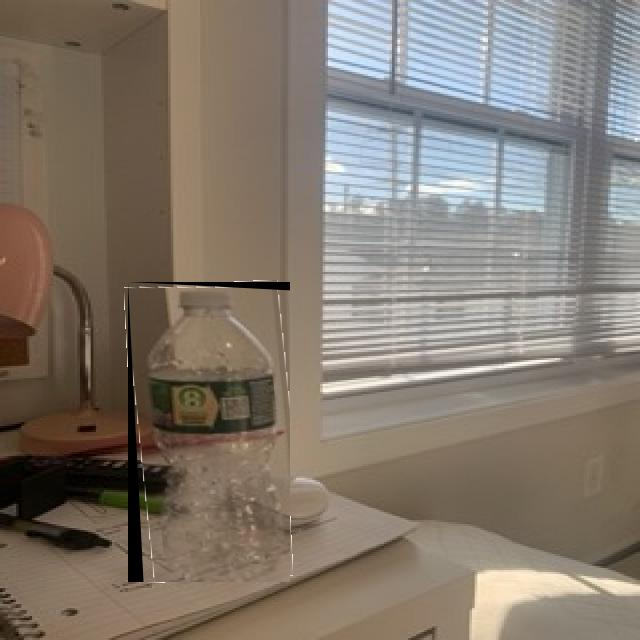water_bottle: (128, 282, 290, 582)
